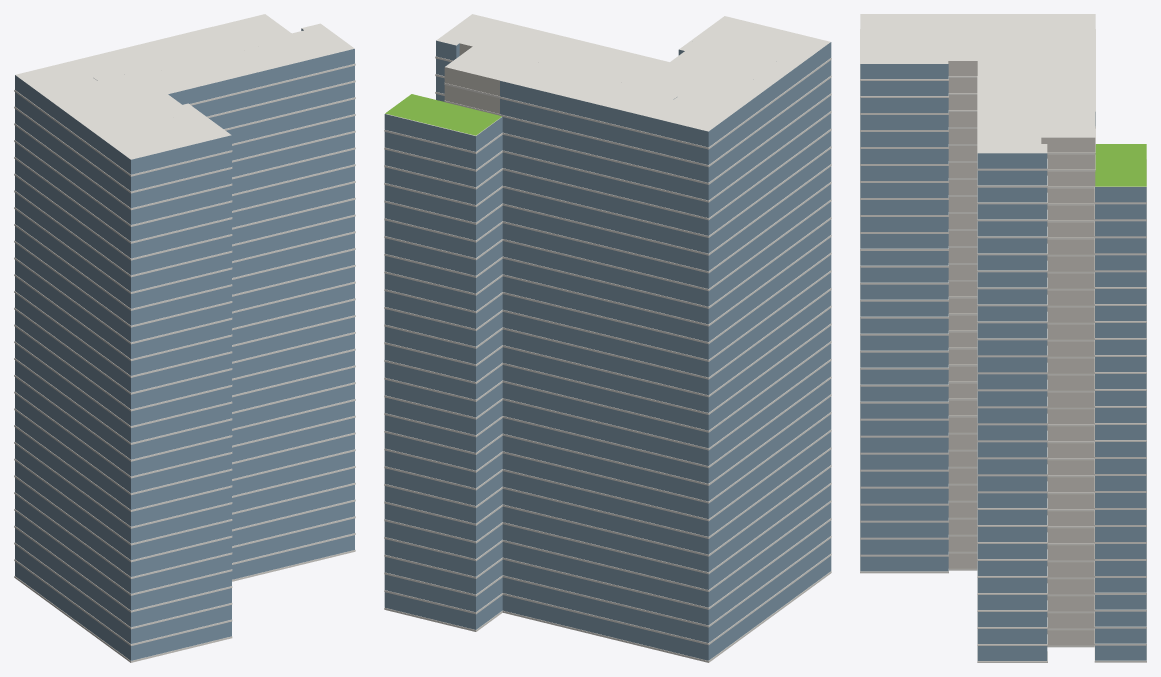
The model's file is sun-saphia-tower.glb.
3 renders of one model, left to right at view 1: azimuth 30°, elevation 25°; view 2: azimuth 150°, elevation 25°; view 3: azimuth 270°, elevation 25°, orthographic. The views are drawn at different scales.
Parts seen in each view (by area): view 1: sun-saphia_tower; view 2: sun-saphia_tower; view 3: sun-saphia_tower.
Part boxes in pixels (<box>): sun-saphia_tower: <box>14,14,355,662</box>; sun-saphia_tower: <box>384,14,831,662</box>; sun-saphia_tower: <box>860,14,1146,662</box>.
Bounding box in the file's own units: 55.58 × 94.5 × 48.24.
